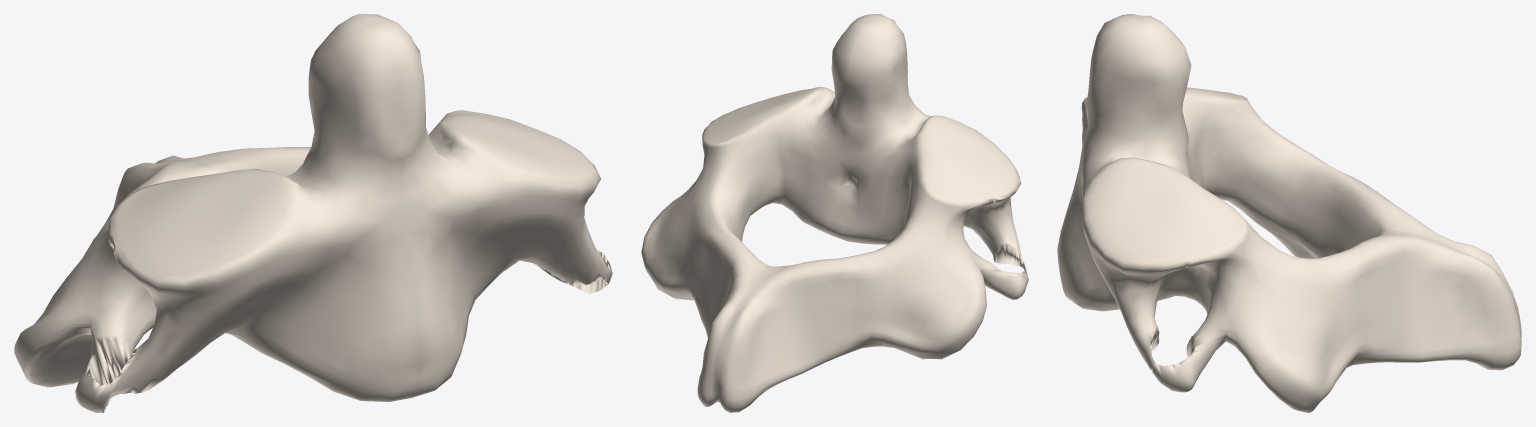
File: cervical_tf_s122.glb
The picture shows the model from 3 angles, left to right: view 1: azimuth 30°, elevation 25°; view 2: azimuth 150°, elevation 25°; view 3: azimuth 270°, elevation 25°; orthographic projection. The views are drawn at different scales.
Visible parts, largest first — view 1: Axis (C2); view 2: Axis (C2); view 3: Axis (C2).
Boxes of the visible parts, <box> form: Axis (C2): <box>14,14,612,412</box>; Axis (C2): <box>641,14,1028,412</box>; Axis (C2): <box>1057,14,1521,412</box>.
Size of the model in its own units: 0.0533 by 0.0418 by 0.0516.
